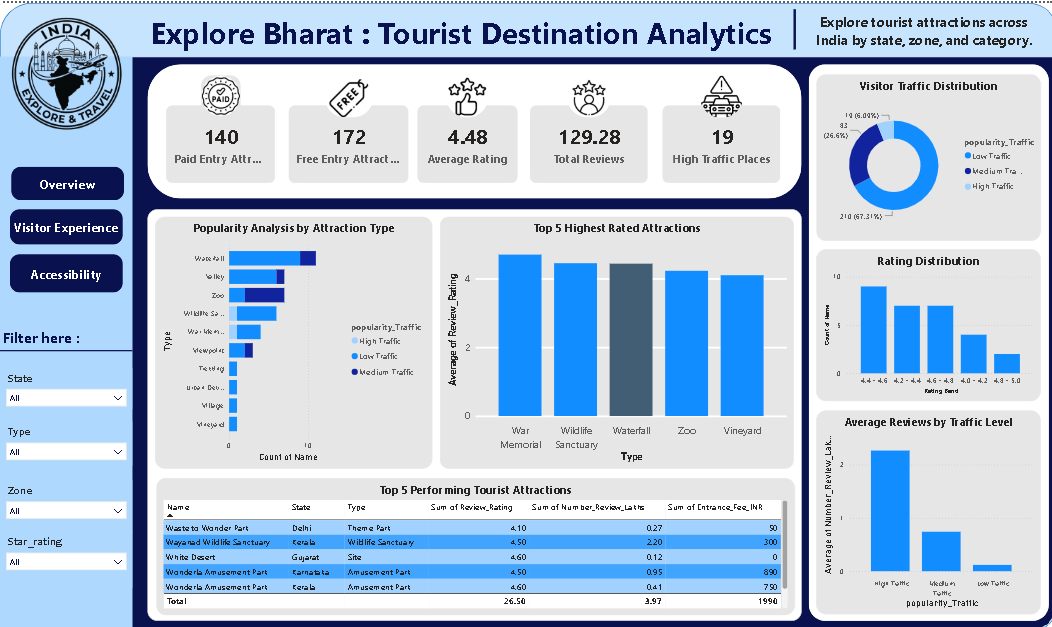

The dashboard page shown, as its layout file describes it:
{"tool":"powerbi","page":{"name":"Visitor Experience and Popularity","canvas":[1730,1030],"ordinal":2},"visuals":[{"type":"shape","box":[0,0,1730.3,1029.2],"z":0},{"type":"shape","box":[0,88,1730.3,941.2],"z":1000},{"type":"shape","box":[240.1,100.8,1067.6,219.3],"z":2000,"group":"g2"},{"type":"shape","box":[1320.5,100.8,392.2,909.2],"z":2000},{"type":"shape","box":[0,88,216.1,941.2],"z":3000,"group":"g1"},{"type":"shape","box":[240.1,337.7,1067.6,672.3],"z":3000},{"type":"actionButton","box":[17.6,267.2,184.1,54.4],"z":4000,"group":"g1"},{"type":"clusteredColumnChart","title":"Top 5 Highest Rated Attractions","fields":{"Category":["Cleaned Dataset.Type"],"Y":["Avg(Cleaned Dataset.Reiew_Rating)"]},"box":[718.7,348.9,577.8,411.4],"z":4000},{"type":"donutChart","title":"Visitor Traffic Distribution","fields":{"Y":["CountNonNull(Cleaned Dataset.Name)"],"Category":["Cleaned Dataset.popularity_Traffic"]},"box":[1331.8,116.8,366.6,272.1],"z":5000},{"type":"actionButton","box":[16,336,184.1,57.6],"z":5000,"group":"g1"},{"type":"barChart","title":"Popularity Analysis by Attraction Type","fields":{"Category":["Cleaned Dataset.Type"],"Series":["Cleaned Dataset.popularity_Traffic"],"Y":["CountNonNull(Cleaned Dataset.Name)"]},"box":[254,348.7,453,411.3],"z":6000},{"type":"actionButton","box":[16,411.3,184.1,62.4],"z":6000,"group":"g1"},{"type":"shape","box":[0.4,505.4,216.1,123],"z":7000,"group":"g1"},{"type":"clusteredColumnChart","title":"Average Reviews by Traffic Level","fields":{"Category":["Cleaned Dataset.popularity_Traffic"],"Y":["Avg(Cleaned Dataset.Number_Review_Lakhs)"]},"box":[1331.8,665.9,366.6,332.9],"z":7000},{"type":"group","id":"g1","title":"Group 1","box":[0,88,230.5,941.2],"z":8000},{"type":"textbox","box":[0,524.9,230.5,56],"z":8000,"group":"g1"},{"type":"group","id":"g2","title":"Group 2","box":[240.1,100.8,1067.6,219.3],"z":9000},{"type":"slicer","fields":{"Values":["Cleaned Dataset.State"]},"box":[0,597,216.1,67.2],"z":9000,"group":"g1"},{"type":"group","id":"g3","title":"Group 3","box":[240.1,11.2,1469.4,76.8],"z":10000},{"type":"slicer","fields":{"Values":["Cleaned Dataset.Type"]},"box":[0,683.4,216.1,72],"z":10000,"group":"g1"},{"type":"clusteredColumnChart","title":"Rating Distribution","fields":{"Category":["Cleaned Dataset.Rating Band"],"Y":["CountNonNull(Cleaned Dataset.Name)"]},"box":[1331.8,401.8,366.6,248.1],"z":11000},{"type":"slicer","fields":{"Values":["Cleaned Dataset.Zone"]},"box":[0,779.4,216.1,83.2],"z":11000,"group":"g1"},{"type":"textbox","box":[240.1,11.2,1120.5,76.8],"z":12000,"group":"g3"},{"type":"tableEx","title":"Top 5 Performing Tourist Attractions","fields":{"Values":["Cleaned Dataset.Name","Cleaned Dataset.State","Cleaned Dataset.Type","Sum(Cleaned Dataset.Reiew_Rating)","Sum(Cleaned Dataset.Number_Review_Lakhs)","Sum(Cleaned Dataset.Entrance_Fee_INR)"]},"box":[254.5,774.7,1042,224.1],"z":12000},{"type":"textbox","box":[1307.7,11.2,401.8,76.8],"z":13000,"group":"g3"},{"type":"image","box":[0,16,216.1,200.1],"z":13000},{"type":"shape","box":[1272.5,11.2,48,65.6],"z":14000,"group":"g3"},{"type":"slicer","fields":{"Values":["Cleaned Dataset.Star_rating"]},"box":[0,862.8,216.1,91.2],"z":14000},{"type":"cardVisual","fields":{"Data":["Cleaned Dataset.Paid Entry Attractions"]},"box":[270.5,168,177.7,126.5],"z":15000,"group":"g2"},{"type":"cardVisual","fields":{"Data":["Cleaned Dataset.Free Entry Attractions"]},"box":[470.6,168,195.3,126.5],"z":16000,"group":"g2"},{"type":"cardVisual","fields":{"Data":["Cleaned Dataset.Average Rating"]},"box":[681.9,168,163.3,126.5],"z":17000,"group":"g2"},{"type":"cardVisual","fields":{"Data":["Cleaned Dataset.Total Reviews"]},"box":[864.4,168,192.1,126.5],"z":18000,"group":"g2"},{"type":"cardVisual","fields":{"Data":["Cleaned Dataset.High Traffic Places"]},"box":[1080.4,168,192.1,126.5],"z":19000,"group":"g2"},{"type":"image","box":[328.1,120,64,67.2],"z":20000,"group":"g2"},{"type":"image","box":[529.8,123.2,78.4,64],"z":21000,"group":"g2"},{"type":"image","box":[728.3,118.4,68.8,68.8],"z":22000,"group":"g2"},{"type":"image","box":[925.2,123.2,70.4,64],"z":23000,"group":"g2"},{"type":"image","box":[1141.3,118.4,70.4,68.8],"z":24000,"group":"g2"}]}

Visuals, with their boxes in screenshot pixels (x1, y1, x2, y2), scaled from the page's 1730x1030 canvas onto the 1052x627 screenshot:
shape: 0:0:1051:626
shape: 0:54:1051:626
shape: 146:61:795:195
shape: 803:61:1041:615
shape: 0:54:131:626
shape: 146:206:795:615
actionButton: 11:163:123:196
"Top 5 Highest Rated Attractions" clusteredColumnChart: 437:212:788:463
"Visitor Traffic Distribution" donutChart: 810:71:1033:237
actionButton: 10:205:122:240
"Popularity Analysis by Attraction Type" barChart: 154:212:430:463
actionButton: 10:250:122:288
shape: 0:308:132:383
"Average Reviews by Traffic Level" clusteredColumnChart: 810:405:1033:608
"Group 1" group: 0:54:140:626
textbox: 0:320:140:354
"Group 2" group: 146:61:795:195
slicer - Cleaned Dataset.State: 0:363:131:404
"Group 3" group: 146:7:1040:54
slicer - Cleaned Dataset.Type: 0:416:131:460
"Rating Distribution" clusteredColumnChart: 810:245:1033:396
slicer - Cleaned Dataset.Zone: 0:474:131:525
textbox: 146:7:827:54
"Top 5 Performing Tourist Attractions" tableEx: 155:472:788:608
textbox: 795:7:1040:54
image: 0:10:131:132
shape: 774:7:803:47
slicer - Cleaned Dataset.Star_rating: 0:525:131:581
cardVisual - Cleaned Dataset.Paid Entry Attractions: 164:102:273:179
cardVisual - Cleaned Dataset.Free Entry Attractions: 286:102:405:179
cardVisual - Cleaned Dataset.Average Rating: 415:102:514:179
cardVisual - Cleaned Dataset.Total Reviews: 526:102:642:179
cardVisual - Cleaned Dataset.High Traffic Places: 657:102:774:179
image: 200:73:238:114
image: 322:75:370:114
image: 443:72:485:114
image: 563:75:605:114
image: 694:72:737:114
